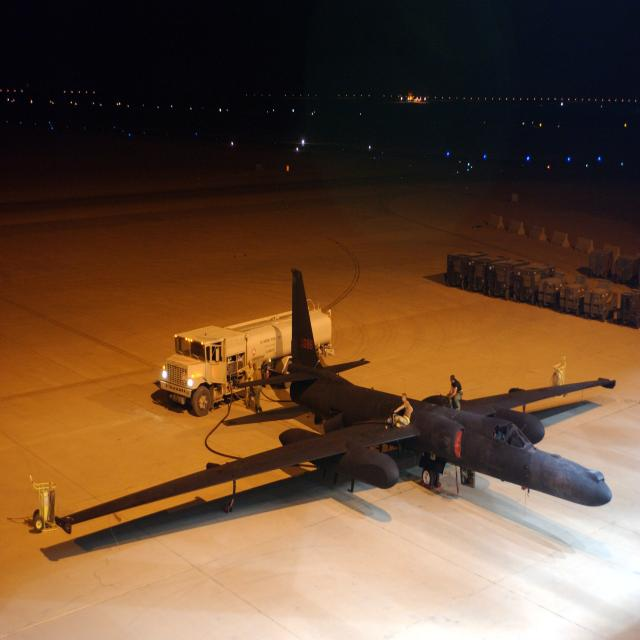MIL_Plane: (54, 267, 616, 535)
